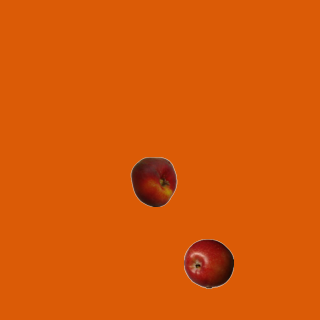Apple Braeburn: (183, 238, 233, 288)
Nectarine Flat: (128, 156, 178, 206)
